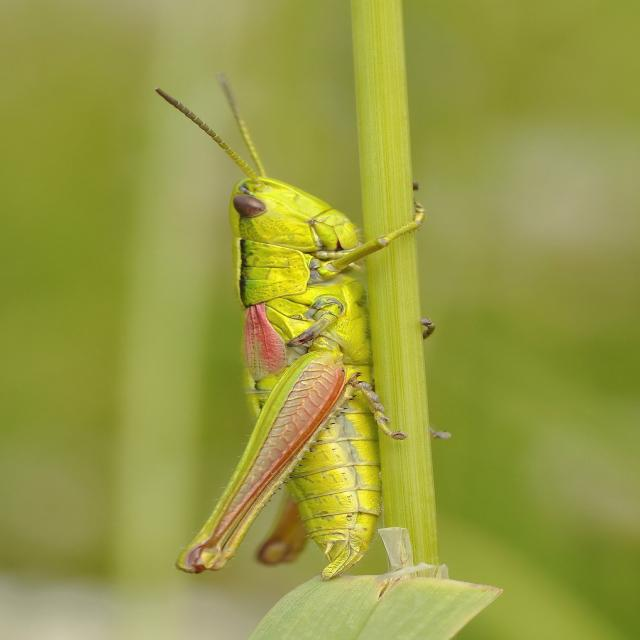ZhaMeng: (154, 80, 441, 582)
